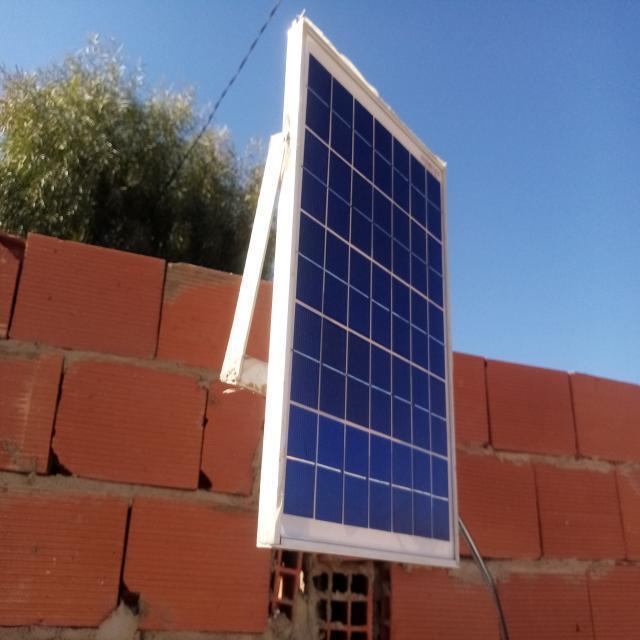Normal Solar Panel: (272, 25, 455, 566)
